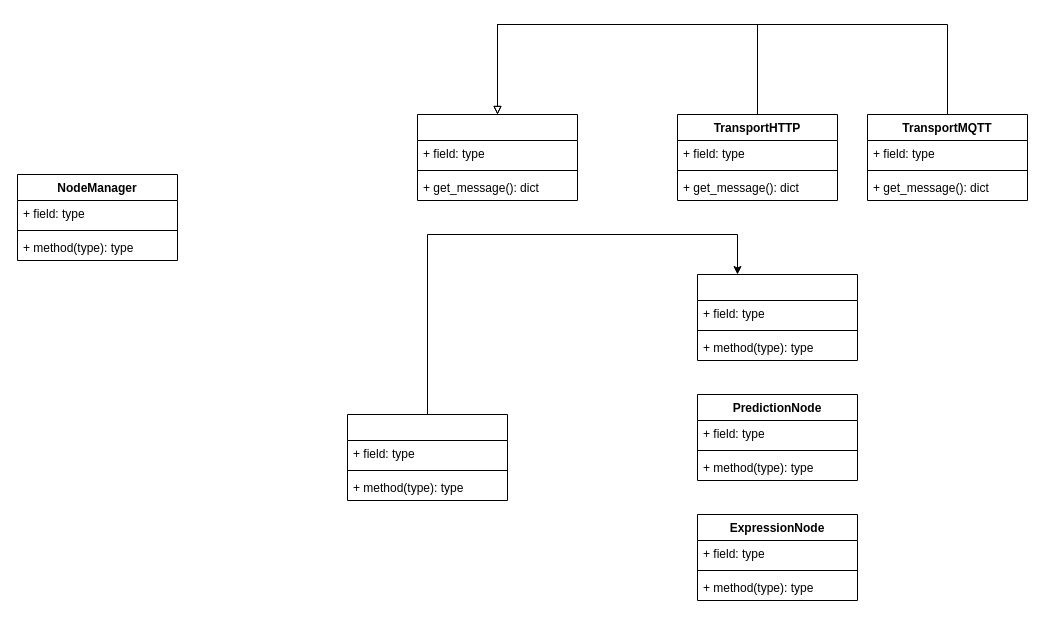
This 1045x621 diagram has some shape labels left out. The box of each missing label's shape, as (x1, y1, x2, y2) in pixels:
BaseNode: (346, 414, 508, 500)
ITransport: (416, 114, 578, 200)
RuleNode: (696, 274, 858, 360)
